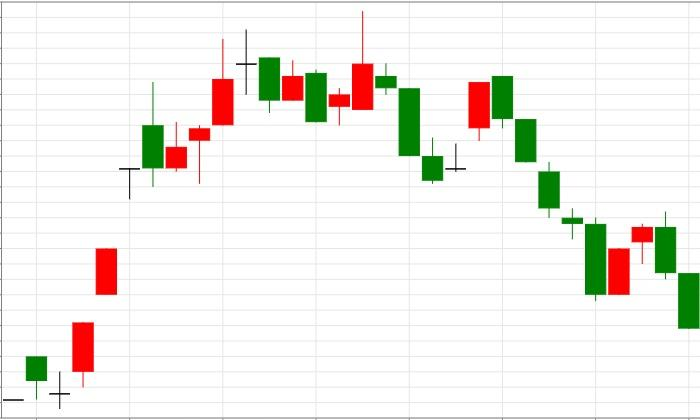three_black_crows_fall: (422, 76, 561, 218)
